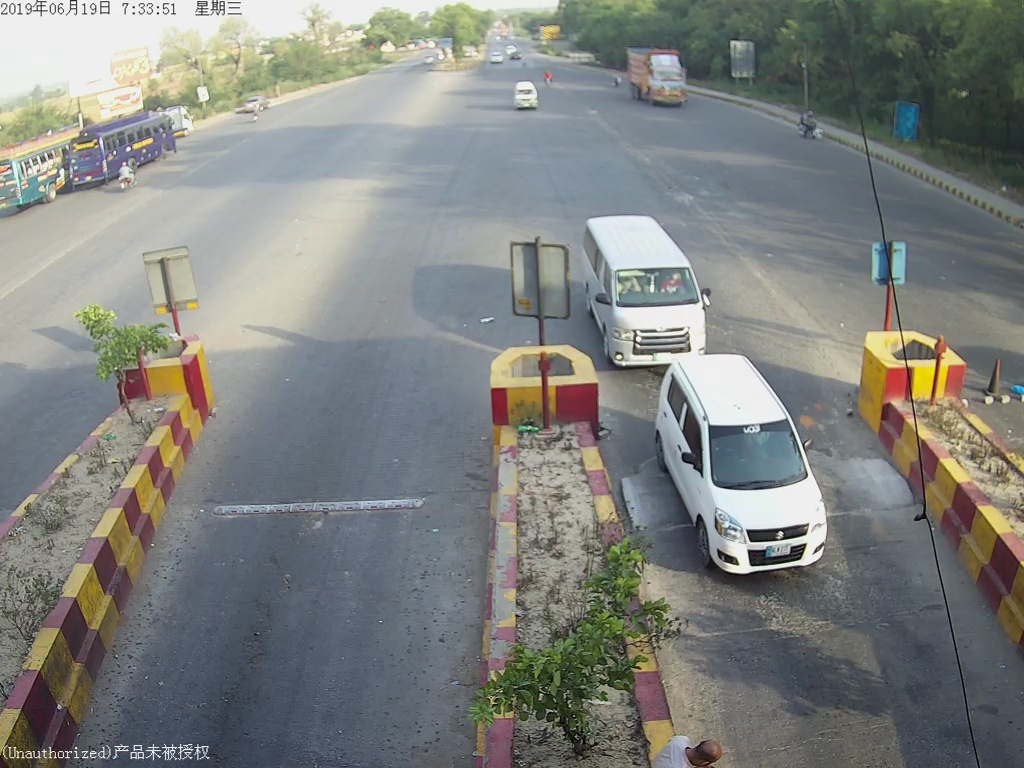Cat-1: (653, 350, 835, 562)
Cat-2: (580, 213, 727, 352)
